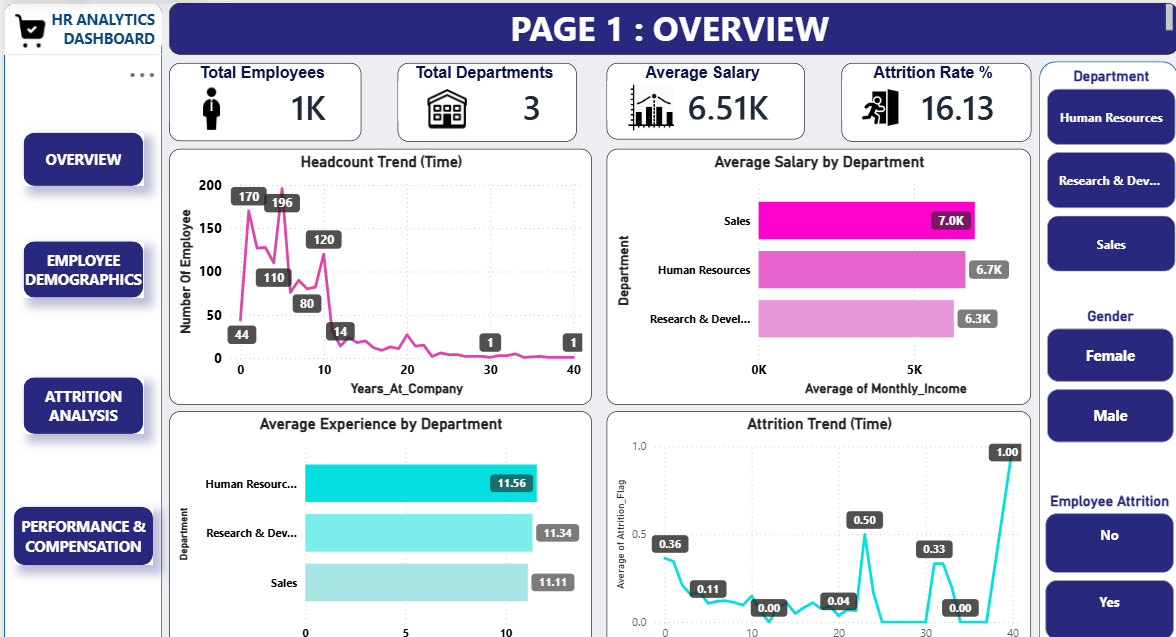

The dashboard page shown, as its layout file describes it:
{"tool":"powerbi","page":{"name":"Page 1","canvas":[1280,720],"ordinal":0},"visuals":[{"type":"shape","box":[0,0,172.3,720.6],"z":0},{"type":"actionButton","box":[10.6,141.2,148.3,58.2],"z":1000},{"type":"actionButton","box":[12.4,548.9,148.3,63.5],"z":2000},{"type":"actionButton","box":[10.6,259.4,148.3,61.8],"z":3000},{"type":"actionButton","box":[10.6,407.7,148.3,61.8],"z":4000},{"type":"cardVisual","title":"Total Employees","fields":{"Data":["Excel_HR_Cleaned_Data.Total Employees"]},"box":[192.4,56.5,217.1,84.7],"z":5000},{"type":"textbox","box":[190.6,0,1088.5,47],"z":6000},{"type":"cardVisual","title":"Total Departments","fields":{"Data":["Excel_HR_Cleaned_Data.Total Departments"]},"box":[500.5,55.8,215.3,85.7],"z":7000},{"type":"cardVisual","title":"Average Salary","fields":{"Data":["Excel_HR_Cleaned_Data.Average Salary"]},"box":[753.6,56.5,241.8,84.7],"z":8000},{"type":"cardVisual","title":"Attrition Rate %","fields":{"Data":["Excel_HR_Cleaned_Data.Attrition Rate (%)"]},"box":[1050.1,56.5,229.4,84.7],"z":9000},{"type":"lineChart","title":"Headcount Trend (Time)","fields":{"Category":["Excel_HR_Cleaned_Data.Years_At_Company"],"Y":["Count(Excel_HR_Cleaned_Data.Employee_Number)"]},"box":[192.4,150,538,282],"z":10000},{"type":"lineChart","title":"Attrition Trend (Time)","fields":{"Category":["Excel_HR_Cleaned_Data.Years_At_Company"],"Y":["Avg(Excel_HR_Cleaned_Data.Attrition_Flag)"]},"box":[741.3,439.5,538.3,280.6],"z":11000},{"type":"clusteredBarChart","title":"Average Experience by Department","fields":{"Category":["Excel_HR_Cleaned_Data.Department"],"Y":["Avg(Excel_HR_Cleaned_Data.Total_Working_Years)"]},"box":[192.4,439.5,538.3,280.6],"z":12000},{"type":"clusteredBarChart","title":"Average Salary by Department","fields":{"Category":["Excel_HR_Cleaned_Data.Department"],"Y":["Avg(Excel_HR_Cleaned_Data.Monthly_Income)"]},"box":[741.3,150,538.3,282.4],"z":13000},{"type":"actionButton","box":[0,0,173,56.5],"z":14000},{"type":"image","box":[217.3,79.8,69.8,53.8],"z":15000},{"type":"image","box":[520.4,83.7,55.8,49.8],"z":16000},{"type":"image","box":[765.6,83.7,67.8,49.8],"z":17000},{"type":"image","box":[1062.7,83.7,65.8,49.8],"z":18000},{"type":"listSlicer","fields":{"Values":["Excel_HR_Cleaned_Data.Department"]},"box":[690,0,184,46],"z":19000},{"type":"listSlicer","fields":{"Values":["Excel_HR_Cleaned_Data.Employee_Attrition"]},"box":[900,0,162,46],"z":20000},{"type":"listSlicer","fields":{"Values":["Excel_HR_Cleaned_Data.Gender"]},"box":[1098,0,182,46],"z":22000}]}

Visuals, with their boxes on the page's 1280x720 design canvas (x1, y1, x2, y2). These are canvas units, not pixel positions in the 1176x637 screenshot, which may show the page scaled, cropped or inside an application window:
shape: box=[0, 0, 172, 721]
actionButton: box=[11, 141, 159, 199]
actionButton: box=[12, 549, 161, 612]
actionButton: box=[11, 259, 159, 321]
actionButton: box=[11, 408, 159, 470]
"Total Employees" cardVisual: box=[192, 56, 410, 141]
textbox: box=[191, 0, 1279, 47]
"Total Departments" cardVisual: box=[500, 56, 716, 142]
"Average Salary" cardVisual: box=[754, 56, 995, 141]
"Attrition Rate %" cardVisual: box=[1050, 56, 1280, 141]
"Headcount Trend (Time)" lineChart: box=[192, 150, 730, 432]
"Attrition Trend (Time)" lineChart: box=[741, 440, 1280, 720]
"Average Experience by Department" clusteredBarChart: box=[192, 440, 731, 720]
"Average Salary by Department" clusteredBarChart: box=[741, 150, 1280, 432]
actionButton: box=[0, 0, 173, 56]
image: box=[217, 80, 287, 134]
image: box=[520, 84, 576, 134]
image: box=[766, 84, 833, 134]
image: box=[1063, 84, 1128, 134]
listSlicer - Excel_HR_Cleaned_Data.Department: box=[690, 0, 874, 46]
listSlicer - Excel_HR_Cleaned_Data.Employee_Attrition: box=[900, 0, 1062, 46]
listSlicer - Excel_HR_Cleaned_Data.Gender: box=[1098, 0, 1280, 46]
